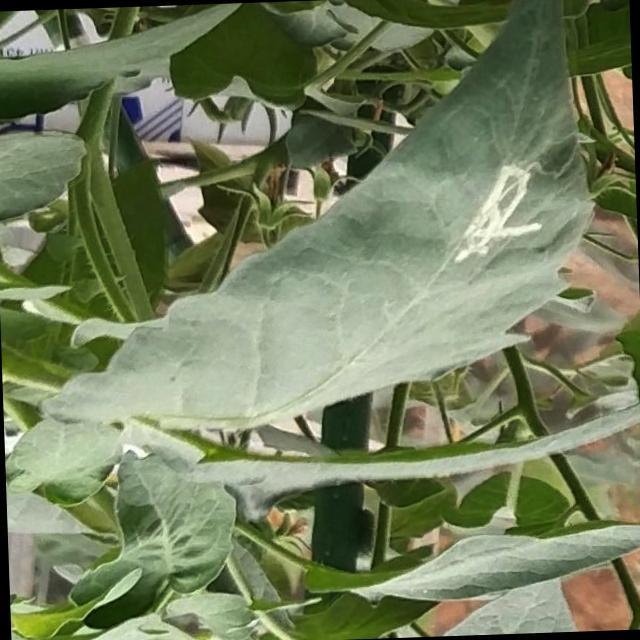Tomato target spot leaf: (11, 0, 616, 437)
